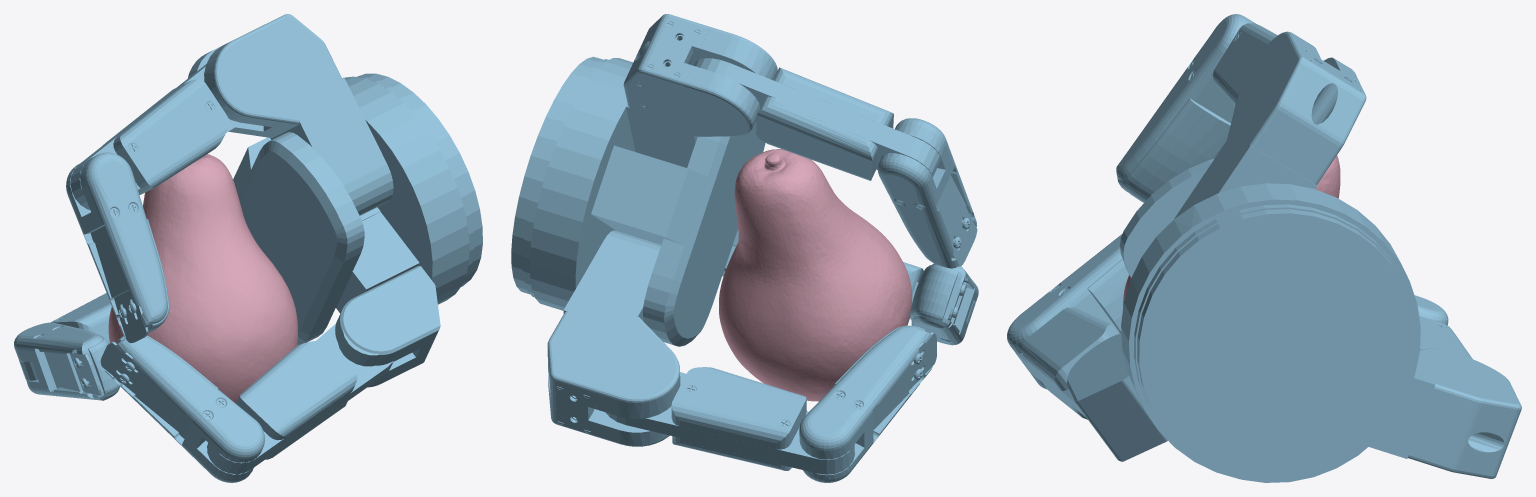
File: Barrett_ycb+pear_mesh.glb
3 views of the same model, side by side, from view 1: azimuth 30°, elevation 25°; view 2: azimuth 150°, elevation 25°; view 3: azimuth 270°, elevation 25° (orthographic). The views are drawn at different scales.
Visible parts, largest first — view 1: world; view 2: world; view 3: world.
Boxes of the visible parts, x1=… form: world: x1=14, y1=14, x2=482, y2=482; world: x1=511, y1=14, x2=978, y2=482; world: x1=1007, y1=14, x2=1521, y2=482.
Bounding box in the file's own units: 0.1529 × 0.1444 × 0.1554.
